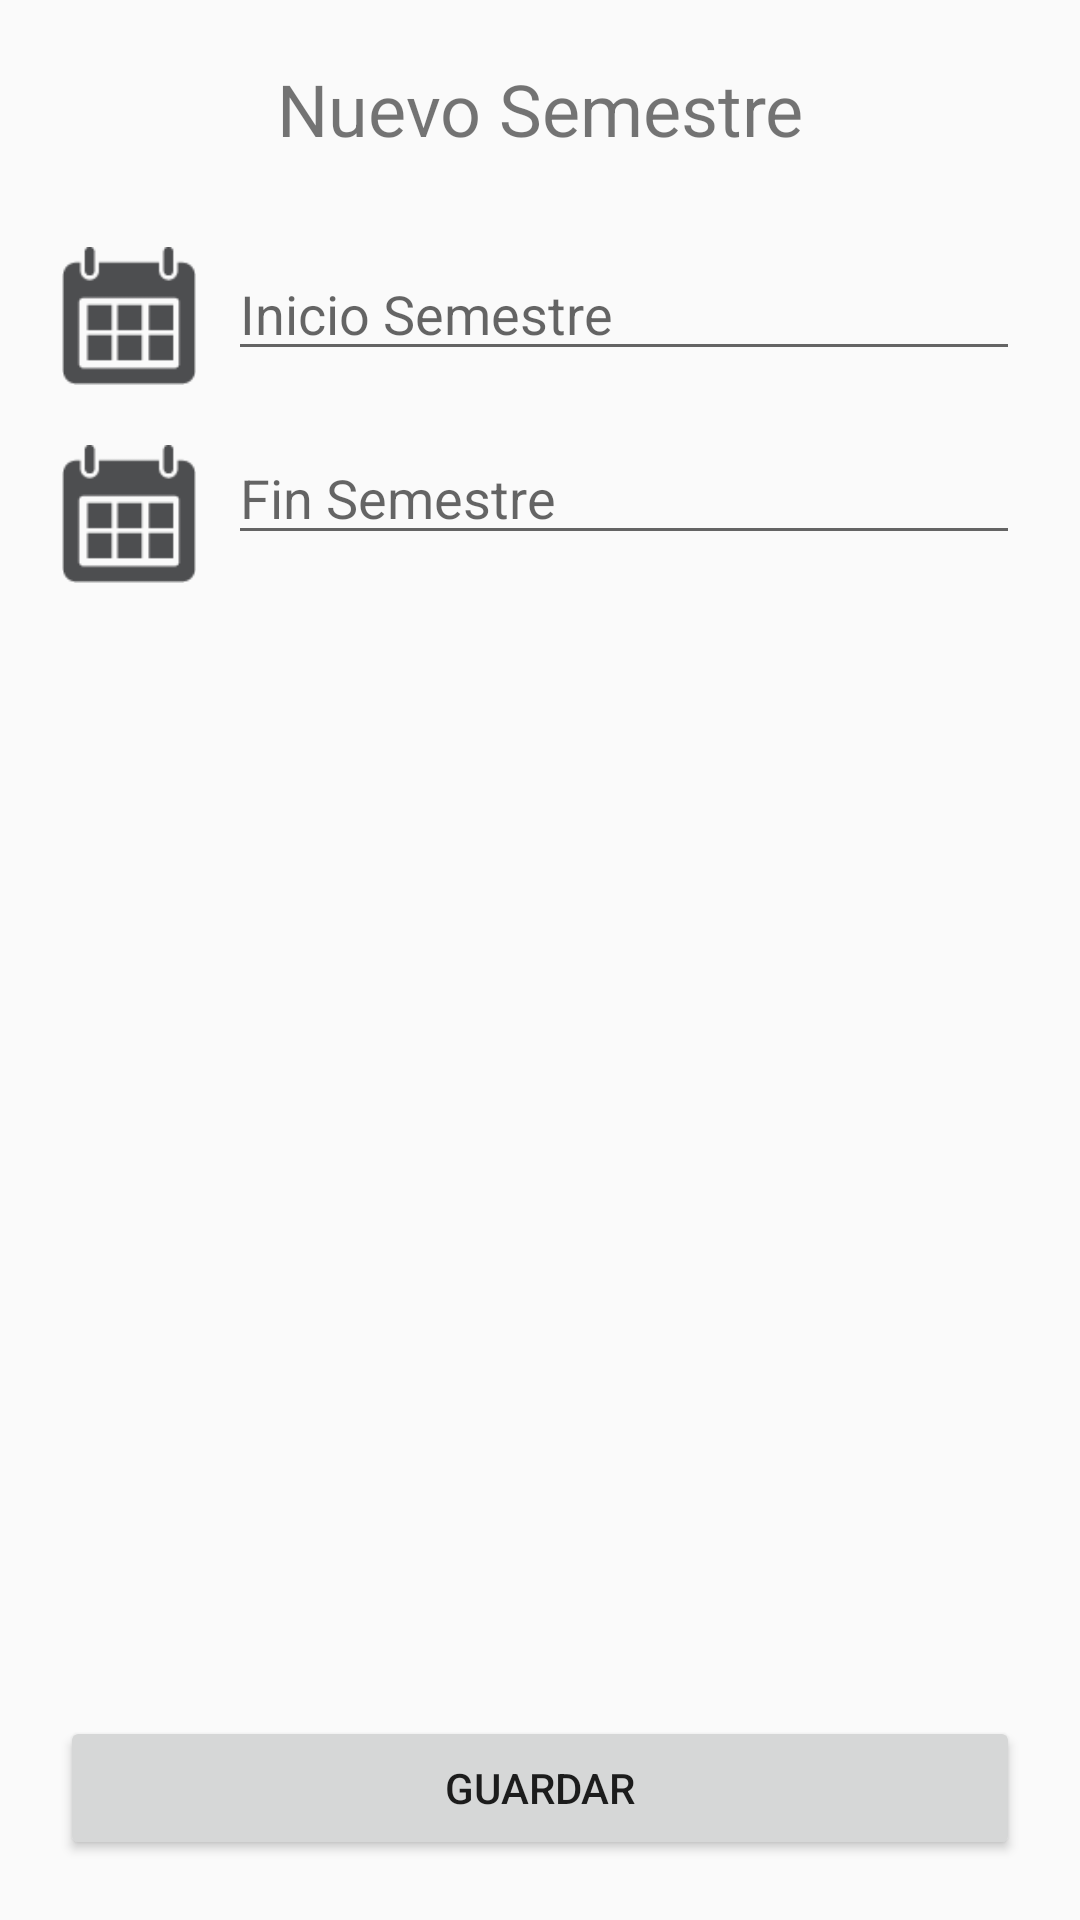

Screen size 1080x1920. Icon name, then its box in pixels as (x1, y1, x2, y2):
calendar: (62, 247, 196, 385), (62, 445, 196, 583)
